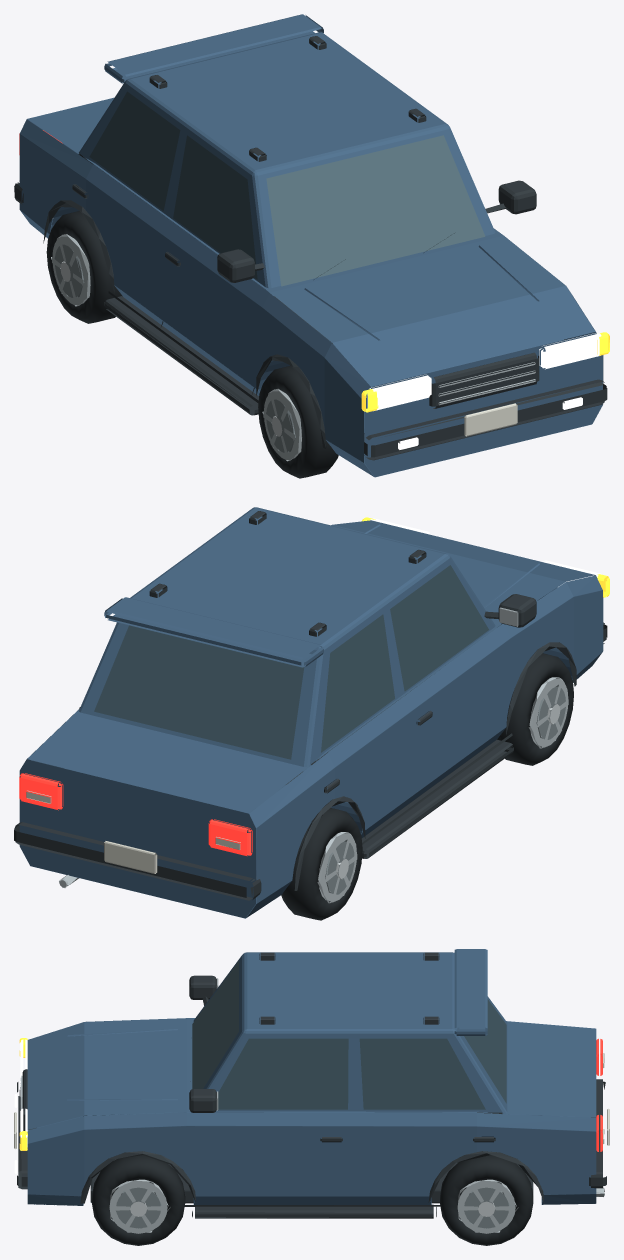
Rendered from suv.glb.
3 views of the same model, one above another, from view 1: azimuth 30°, elevation 25°; view 2: azimuth 150°, elevation 25°; view 3: azimuth 270°, elevation 25° (orthographic). The views are drawn at different scales.
Parts seen in each view (by area): view 1: BodyMesh_Paint_Navy, ShapeSafe_BodyMesh_Paint_Navy, ShapeSafe_BodyMesh_Glass_Reflection, BodyMesh_Trim_Graphite, ShapeSafe_BodyMesh_Glass_StylizedOpaque, Wheel_FR.002_Mesh_Rubber_Tires, Wheel_RR.002_Mesh_Rubber_Tires, ShapeSafe_BodyMesh_Trim_Graphite, Headlamp_L.002, Headlamp_R.002, Wheel_RR.002_Mesh_Metal_SatinAluminum, Wheel_FR.002_Mesh_Metal_SatinAluminum (+4 smaller); view 2: BodyMesh_Paint_Navy, ShapeSafe_BodyMesh_Paint_Navy, ShapeSafe_BodyMesh_Glass_StylizedOpaque, BodyMesh_Trim_Graphite, Wheel_RR.002_Mesh_Rubber_Tires, Wheel_FR.002_Mesh_Rubber_Tires, BodyMesh_Plate_Bone, Wheel_RR.002_Mesh_Metal_SatinAluminum, Wheel_FR.002_Mesh_Metal_SatinAluminum, TailLamp_1.002, TailLamp_-1.002, Wheel_RR.002_Mesh_Brake_Disc (+2 smaller); view 3: BodyMesh_Paint_Navy, ShapeSafe_BodyMesh_Paint_Navy, ShapeSafe_BodyMesh_Glass_StylizedOpaque, BodyMesh_Trim_Graphite, Wheel_FL.002_Mesh_Rubber_Tires, Wheel_RL.002_Mesh_Rubber_Tires, ShapeSafe_BodyMesh_Glass_Reflection, Wheel_RL.002_Mesh_Metal_SatinAluminum, Wheel_FL.002_Mesh_Metal_SatinAluminum, ShapeSafe_BodyMesh_Trim_Graphite, Wheel_FL.002_Mesh_Brake_Disc, Wheel_RL.002_Mesh_Brake_Disc.
Boxes of the visible parts, left/top/right/bottom form: BodyMesh_Paint_Navy: left=19, top=14, right=603, bottom=477; ShapeSafe_BodyMesh_Paint_Navy: left=78, top=32, right=495, bottom=295; ShapeSafe_BodyMesh_Glass_Reflection: left=266, top=135, right=485, bottom=286; BodyMesh_Trim_Graphite: left=14, top=36, right=607, bottom=460; ShapeSafe_BodyMesh_Glass_StylizedOpaque: left=89, top=91, right=257, bottom=279; Wheel_FR.002_Mesh_Rubber_Tires: left=258, top=365, right=338, bottom=478; Wheel_RR.002_Mesh_Rubber_Tires: left=46, top=211, right=122, bottom=323; ShapeSafe_BodyMesh_Trim_Graphite: left=217, top=180, right=536, bottom=282; Headlamp_L.002: left=539, top=332, right=601, bottom=369; Headlamp_R.002: left=367, top=374, right=431, bottom=411; Wheel_RR.002_Mesh_Metal_SatinAluminum: left=51, top=234, right=90, bottom=306; Wheel_FR.002_Mesh_Metal_SatinAluminum: left=262, top=389, right=302, bottom=461; BodyMesh_Paint_Navy: left=19, top=520, right=603, bottom=918; ShapeSafe_BodyMesh_Paint_Navy: left=79, top=507, right=496, bottom=771; ShapeSafe_BodyMesh_Glass_StylizedOpaque: left=94, top=565, right=488, bottom=759; BodyMesh_Trim_Graphite: left=14, top=511, right=607, bottom=900; Wheel_RR.002_Mesh_Rubber_Tires: left=281, top=808, right=362, bottom=920; Wheel_FR.002_Mesh_Rubber_Tires: left=497, top=653, right=573, bottom=765; BodyMesh_Plate_Bone: left=26, top=790, right=240, bottom=873; Wheel_RR.002_Mesh_Metal_SatinAluminum: left=317, top=832, right=357, bottom=903; Wheel_FR.002_Mesh_Metal_SatinAluminum: left=528, top=677, right=568, bottom=748; TailLamp_1.002: left=19, top=773, right=63, bottom=810; TailLamp_-1.002: left=208, top=819, right=252, bottom=856; Wheel_RR.002_Mesh_Brake_Disc: left=325, top=839, right=354, bottom=894; BodyMesh_Paint_Navy: left=27, top=949, right=596, bottom=1205; ShapeSafe_BodyMesh_Paint_Navy: left=193, top=952, right=508, bottom=1114; ShapeSafe_BodyMesh_Glass_StylizedOpaque: left=218, top=999, right=506, bottom=1109; BodyMesh_Trim_Graphite: left=17, top=952, right=606, bottom=1218; Wheel_FL.002_Mesh_Rubber_Tires: left=92, top=1155, right=185, bottom=1245; Wheel_RL.002_Mesh_Rubber_Tires: left=440, top=1155, right=533, bottom=1245; ShapeSafe_BodyMesh_Glass_Reflection: left=192, top=961, right=238, bottom=1088; Wheel_RL.002_Mesh_Metal_SatinAluminum: left=457, top=1179, right=518, bottom=1233; Wheel_FL.002_Mesh_Metal_SatinAluminum: left=109, top=1179, right=170, bottom=1233; ShapeSafe_BodyMesh_Trim_Graphite: left=189, top=975, right=216, bottom=1112; Wheel_FL.002_Mesh_Brake_Disc: left=116, top=1187, right=161, bottom=1228; Wheel_RL.002_Mesh_Brake_Disc: left=464, top=1187, right=510, bottom=1228.
Size of the model in its own units: 2.44 by 1.93 by 4.98.
